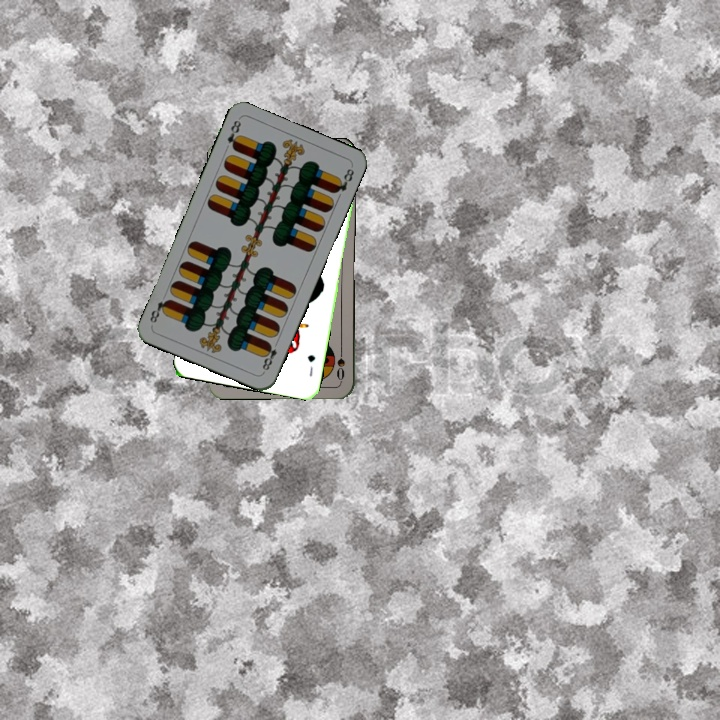E8: (258, 339, 280, 375), (223, 116, 244, 153)
GU: (303, 351, 318, 379)
SO: (333, 342, 348, 382)
